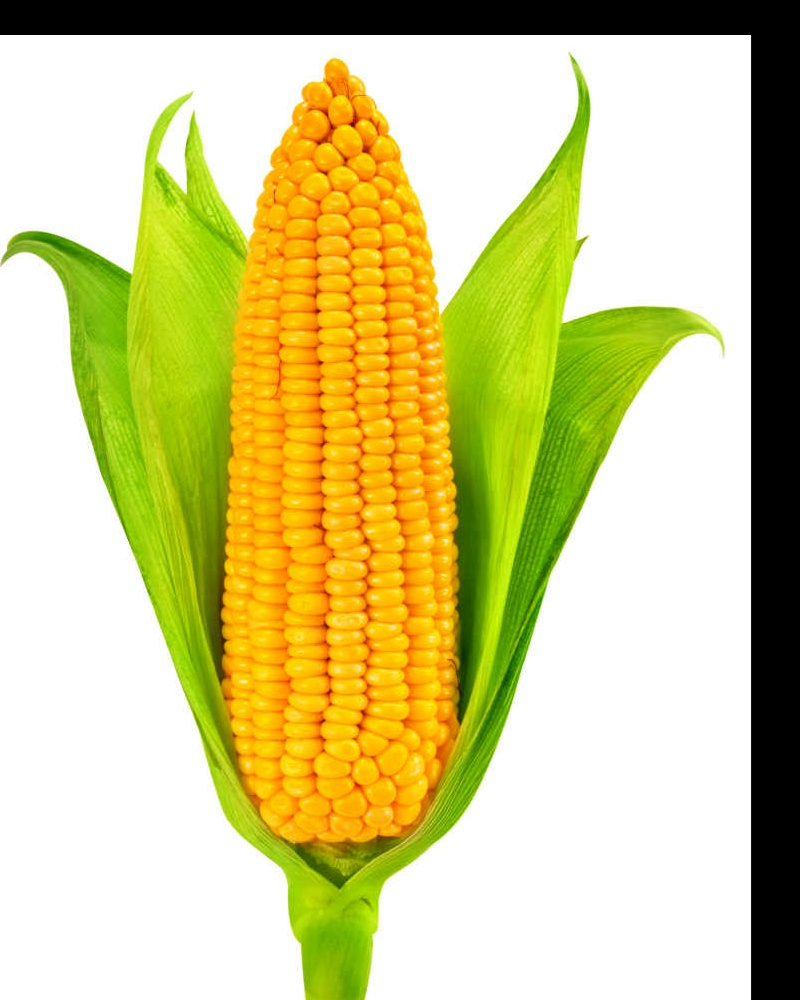corn: (202, 47, 457, 874)
